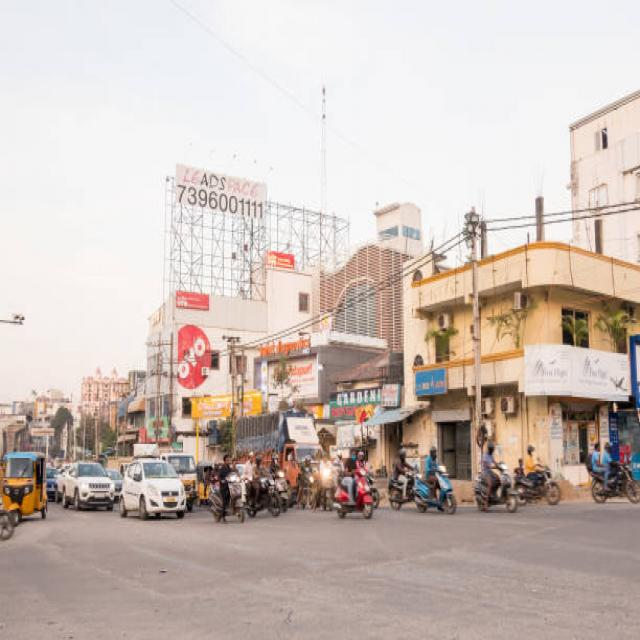Werbetafel frei: (175, 176, 268, 220)
